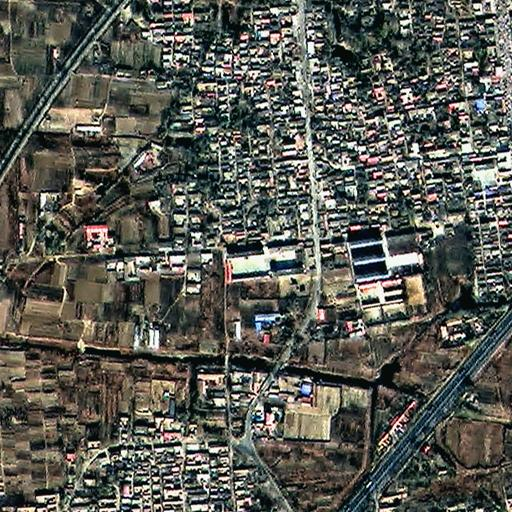school: (223, 238, 311, 285)
